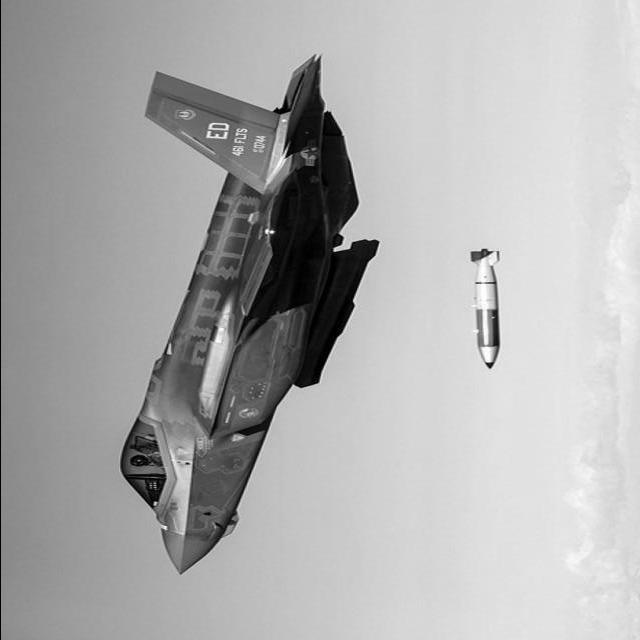Missile: (453, 245, 520, 372)
